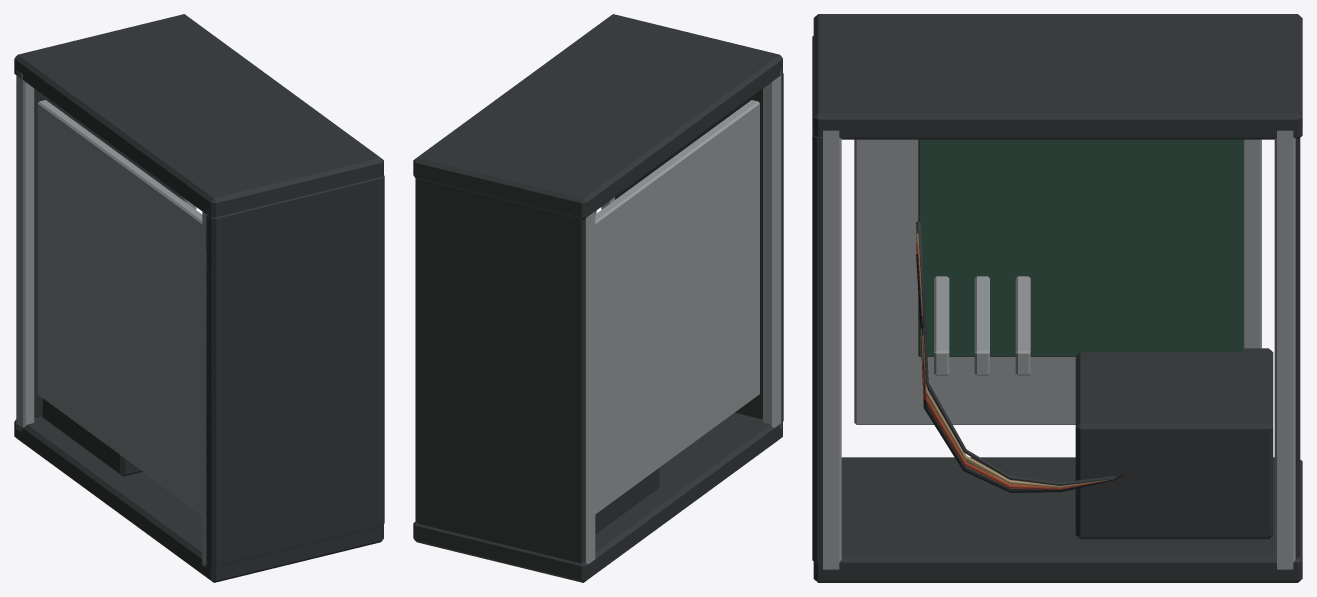
3 views of the same model, side by side, from view 1: azimuth 30°, elevation 25°; view 2: azimuth 150°, elevation 25°; view 3: azimuth 270°, elevation 25° (orthographic). The views are drawn at different scales.
Visible parts, largest first — view 1: Top bottom chassis, Corner chassis rail; view 2: Top bottom chassis, Corner chassis rail; view 3: Top bottom chassis, Unmarked board, Corner chassis rail, Visible insulated harness 0, Visible insulated harness 1, Visible insulated harness 2.
Part boxes in pixels (x1,y1,x2,y2): Top bottom chassis: (14, 14, 384, 582); Corner chassis rail: (16, 70, 208, 567); Top bottom chassis: (413, 14, 783, 582); Corner chassis rail: (415, 69, 781, 563); Top bottom chassis: (812, 14, 1302, 582); Unmarked board: (918, 139, 1244, 356); Corner chassis rail: (823, 130, 1295, 569); Visible insulated harness 0: (916, 254, 1129, 492); Visible insulated harness 1: (916, 243, 1129, 489); Visible insulated harness 2: (916, 233, 1112, 487).
Bounding box in the file's own units: 0.21 × 0.4475 × 0.421.
